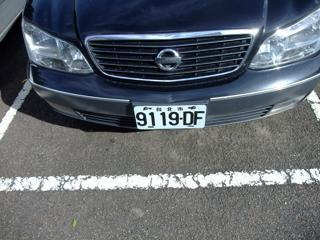plate: (132, 103, 206, 131)
